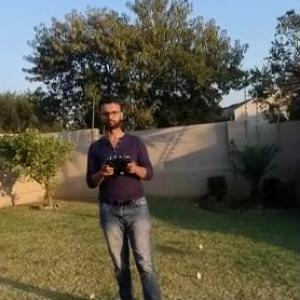follow: (84, 91, 167, 299)
